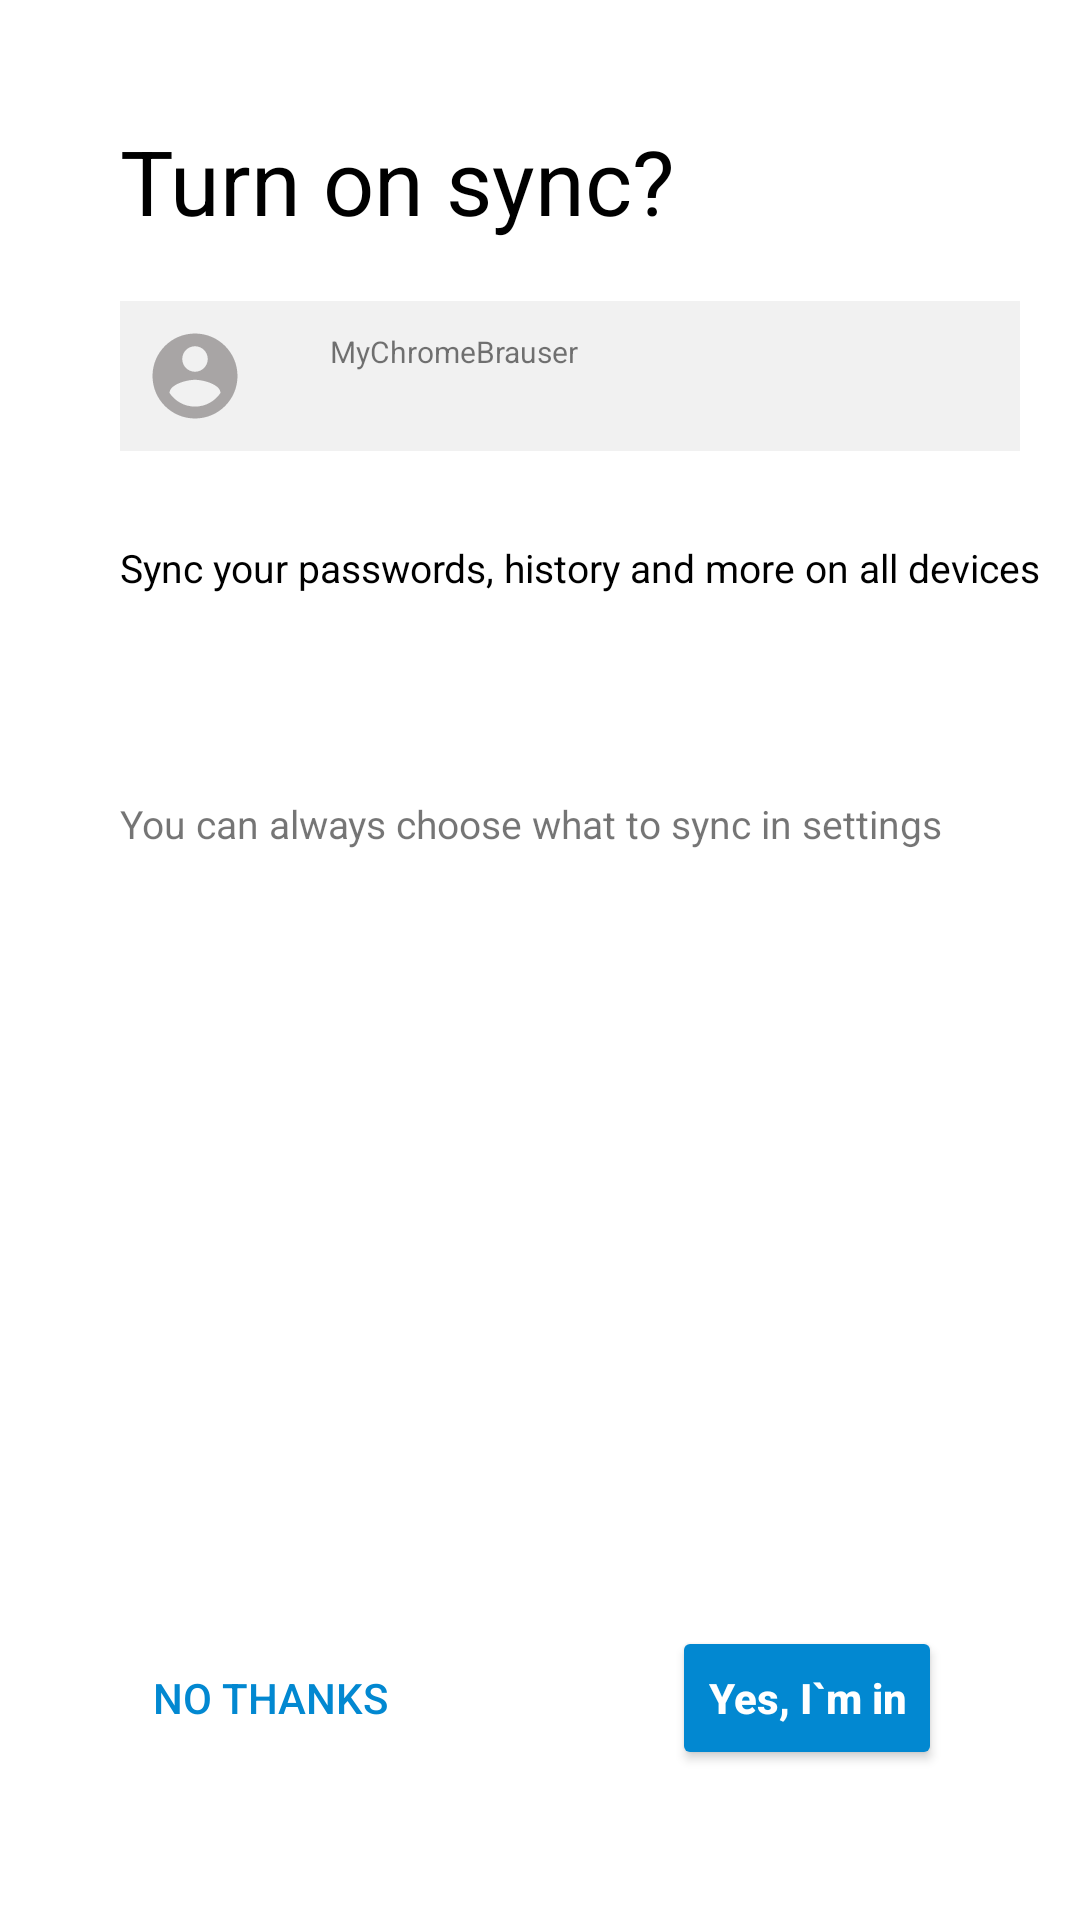

Screen size 1080 x 1920. Icon name, then its center in pixels as point (x, y):
account circle: point (195, 376)
